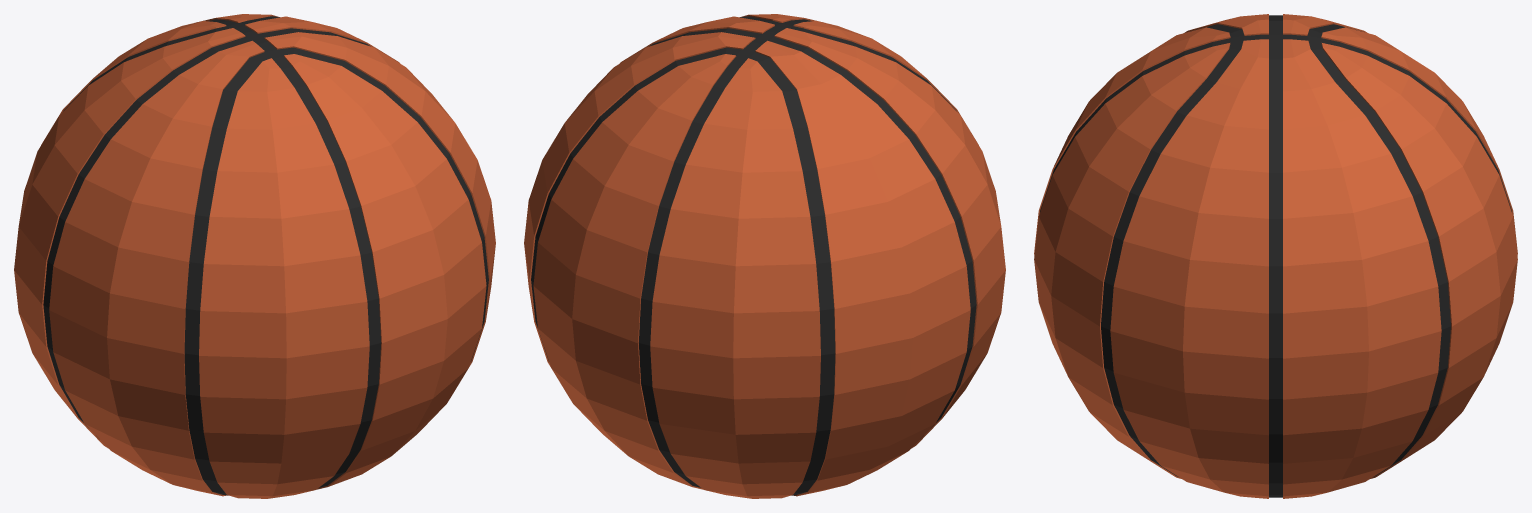
Rendered from bsball.glb.
3 views of the same model, side by side, from view 1: azimuth 30°, elevation 25°; view 2: azimuth 150°, elevation 25°; view 3: azimuth 270°, elevation 25° (orthographic).
Visible parts, largest first — view 1: basketball_OBJ:Mesh; view 2: basketball_OBJ:Mesh; view 3: basketball_OBJ:Mesh.
Part boxes in pixels (box(x1,y1,x2,y2)): basketball_OBJ:Mesh: box(14, 14, 495, 498); basketball_OBJ:Mesh: box(524, 14, 1005, 498); basketball_OBJ:Mesh: box(1034, 14, 1517, 498).
Size of the model in its own units: 4.95 by 4.97 by 4.95.
